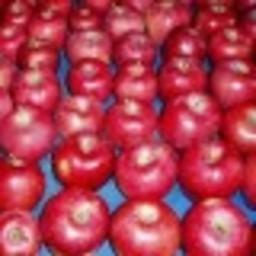apple: (40, 192, 109, 255), (180, 197, 254, 254), (158, 92, 223, 154), (51, 127, 112, 193), (110, 198, 179, 256), (179, 140, 244, 199), (114, 141, 177, 201), (2, 107, 55, 158), (105, 98, 158, 144), (1, 158, 46, 210), (11, 67, 61, 110), (158, 57, 208, 100), (210, 59, 256, 103), (65, 57, 110, 96), (112, 64, 157, 103), (65, 29, 111, 65), (110, 34, 157, 68)
